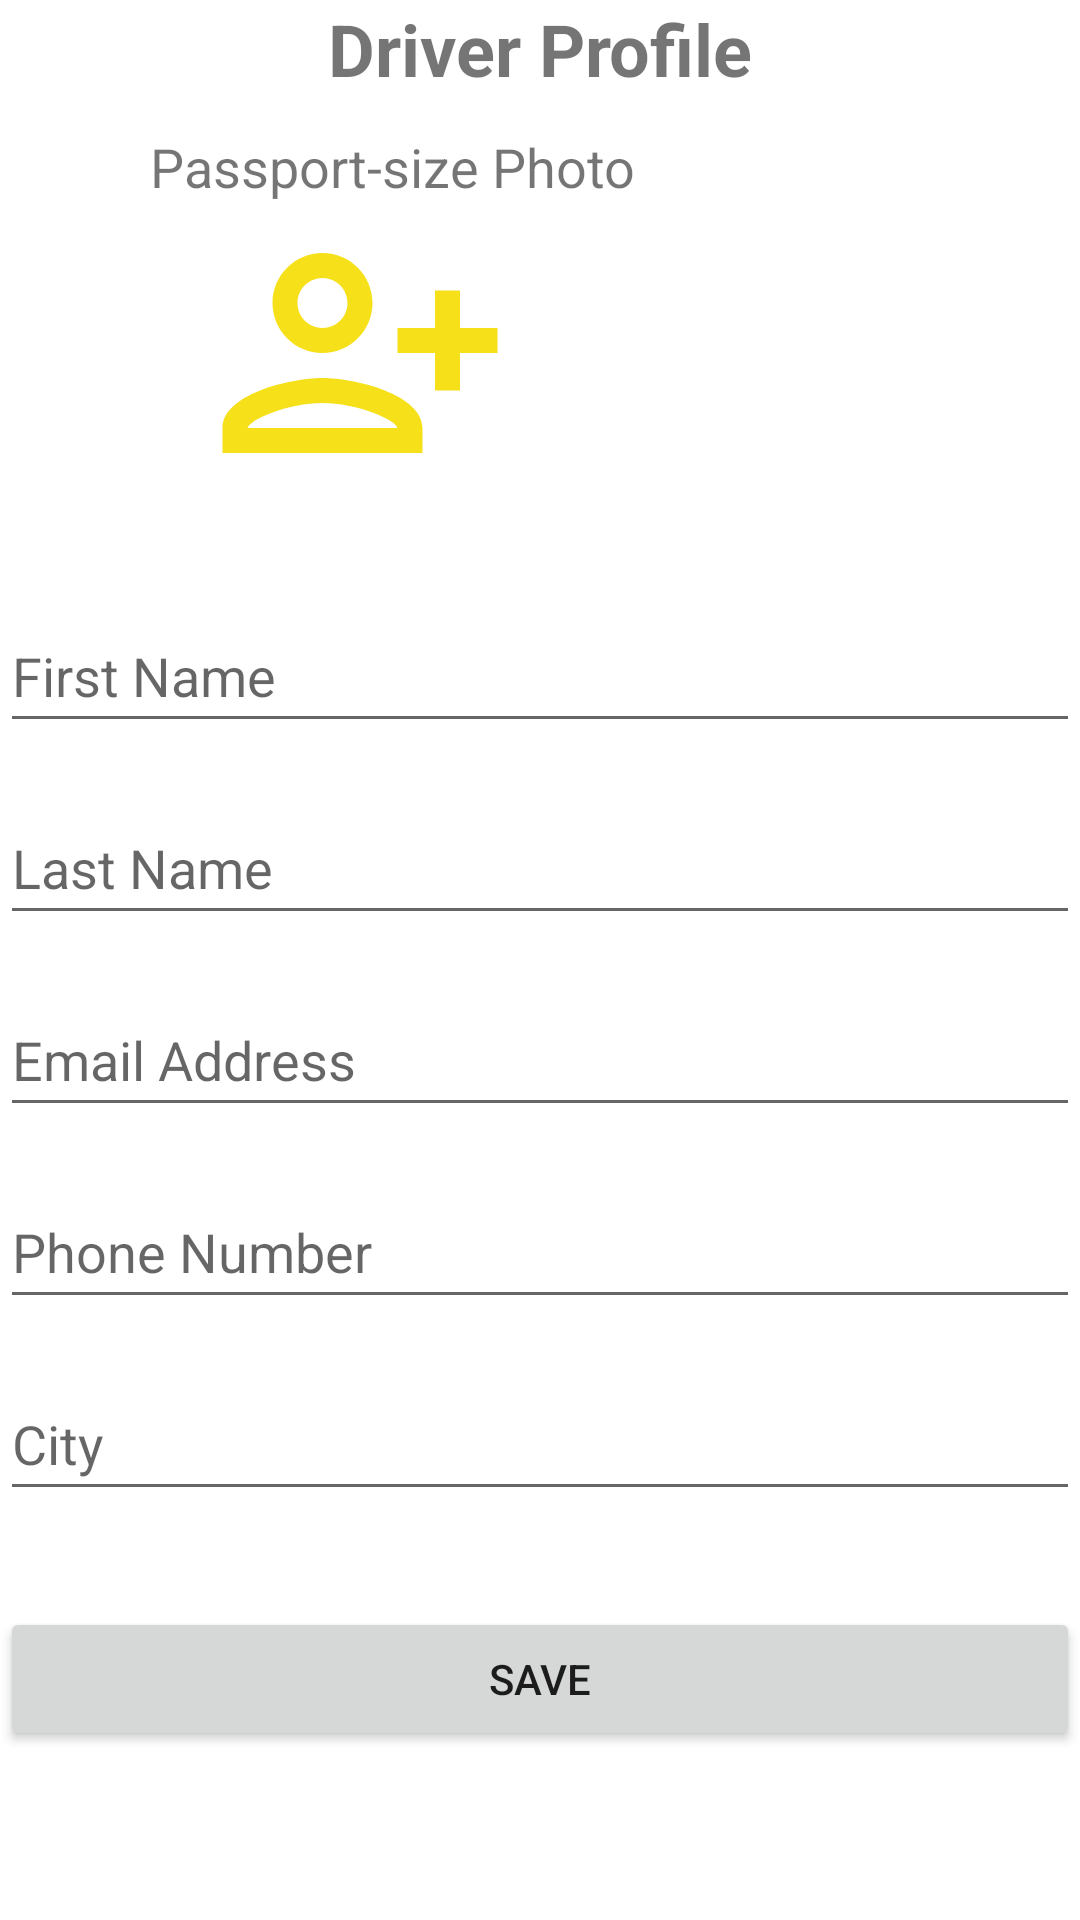

Point at icon controls on the screen. Image size 1080px×1920px, points as point (x, y).
addperson: point (360, 353)
